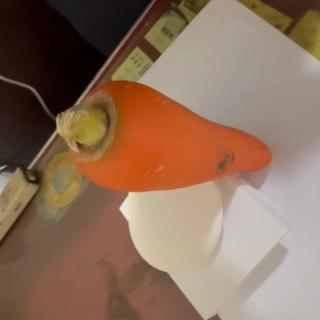carrot: (58, 81, 272, 193)
